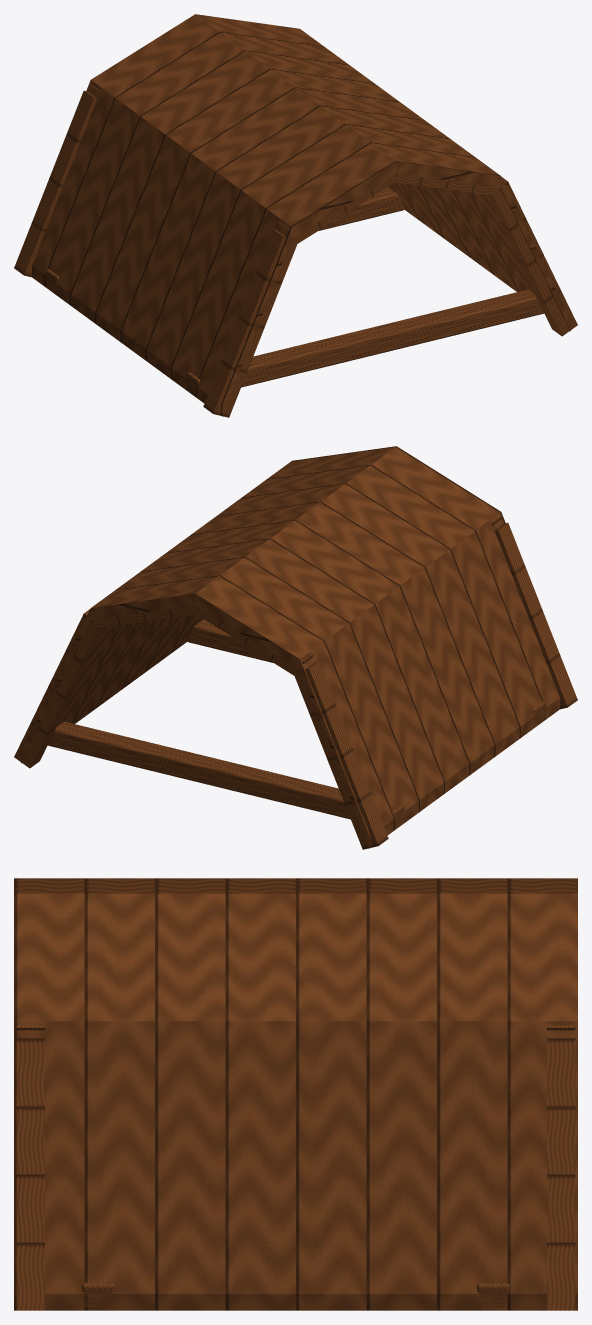
Rendered from modular-survival-base-builder-roof-mansard-4f3f069e__24179.glb.
3 renders of one model, top to bottom at view 1: azimuth 30°, elevation 25°; view 2: azimuth 150°, elevation 25°; view 3: azimuth 270°, elevation 25°, orthographic. The views are drawn at different scales.
Visible parts, largest first — view 1: roof-mansard; view 2: roof-mansard; view 3: roof-mansard.
Boxes of the visible parts, x1=… form: roof-mansard: x1=14, y1=14, x2=577, y2=417; roof-mansard: x1=14, y1=446, x2=577, y2=849; roof-mansard: x1=14, y1=878, x2=577, y2=1310.
Size of the model in its own units: 2.09 by 1.19 by 2.
Materials: 1 (1 with a texture image).
